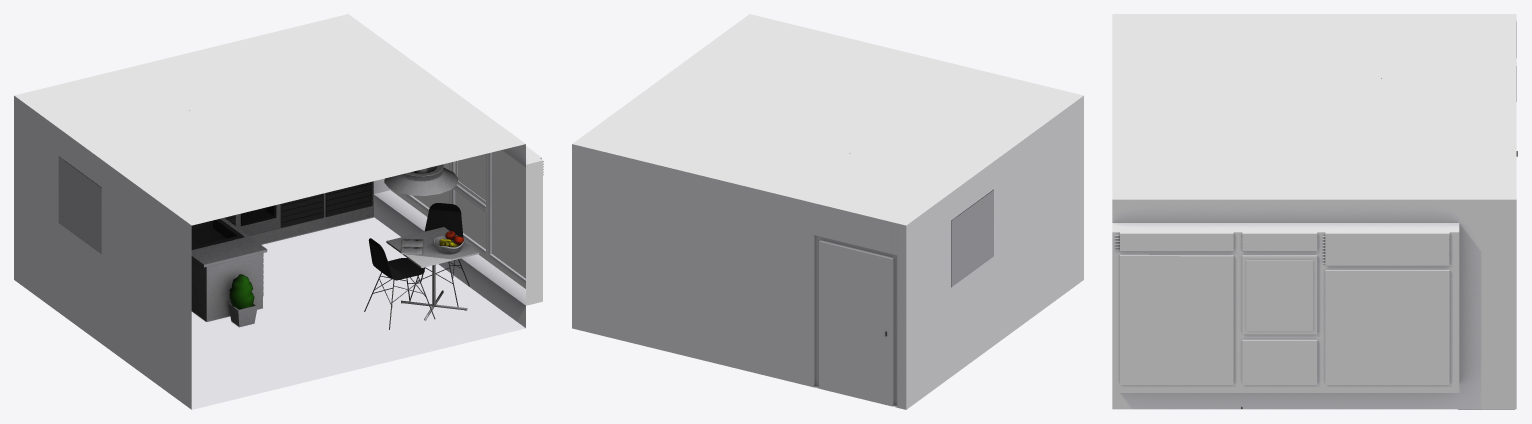
Rendered from dinningkitchen_room.glb.
3 views of the same model, side by side, from view 1: azimuth 30°, elevation 25°; view 2: azimuth 150°, elevation 25°; view 3: azimuth 270°, elevation 25° (orthographic). The views are drawn at different scales.
Parts seen in each view (by area): view 1: Object002_Object002_mtl_0, Object001_Object001_mtl_0; view 2: Object002_Object002_mtl_0, Object001_Object001_mtl_0; view 3: Object002_Object002_mtl_0, Object001_Object001_mtl_0.
Part boxes in pixels (box(x1,y1,x2,y2)): Object002_Object002_mtl_0: box(14, 14, 542, 409); Object001_Object001_mtl_0: box(58, 110, 543, 329); Object002_Object002_mtl_0: box(572, 14, 1083, 409); Object001_Object001_mtl_0: box(885, 190, 993, 336); Object002_Object002_mtl_0: box(1112, 14, 1516, 409); Object001_Object001_mtl_0: box(1114, 78, 1517, 409).
Size of the model in its own units: 242 by 121 by 210.
Materials: 2 (2 with a texture image).
